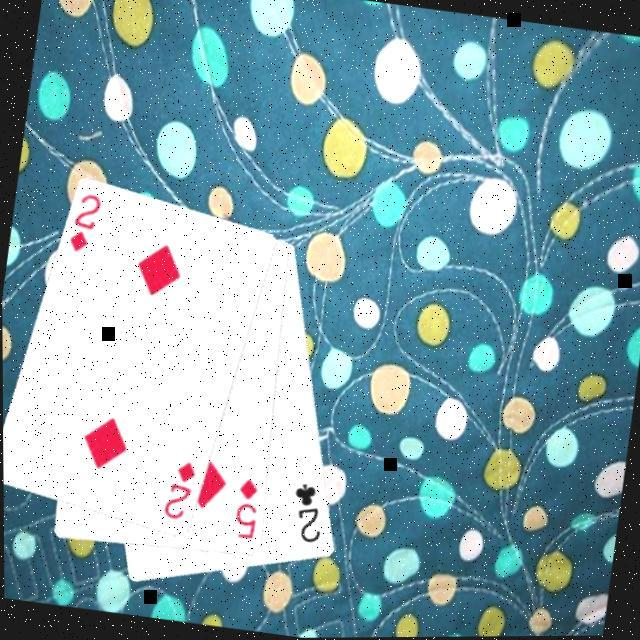2C: (285, 481, 332, 551)
2D: (160, 459, 201, 528), (66, 190, 107, 259)
5D: (229, 477, 266, 545)
